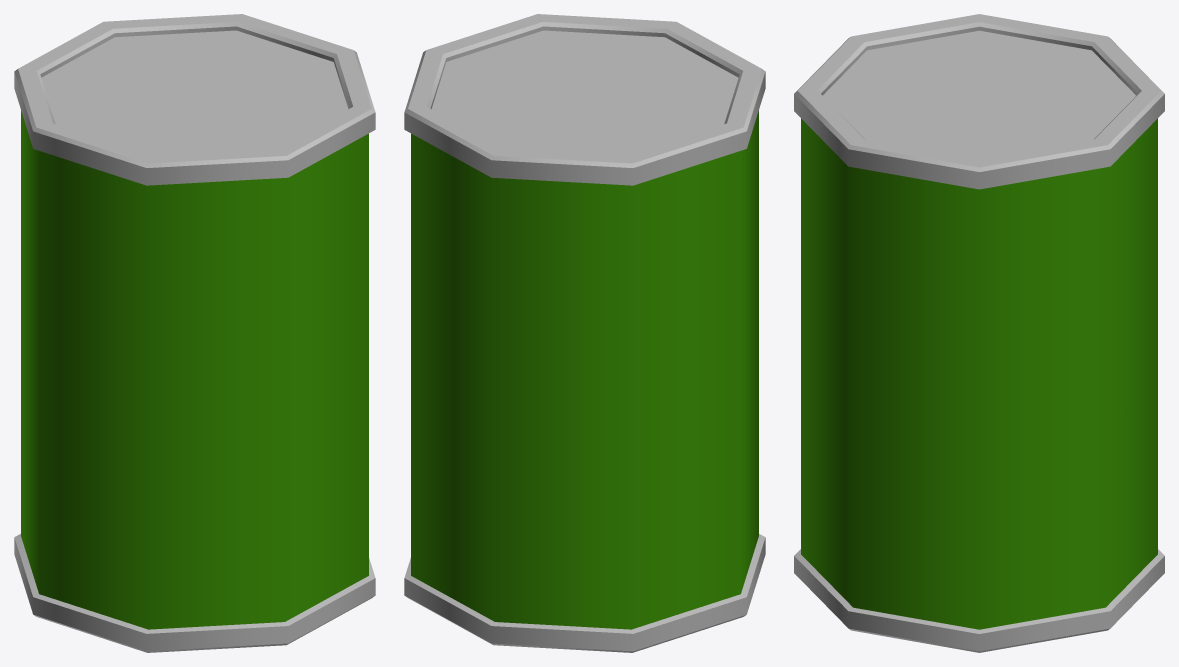
File: Fridgerer_Canned_02.glb
3 renders of one model, left to right at view 1: azimuth 30°, elevation 25°; view 2: azimuth 150°, elevation 25°; view 3: azimuth 270°, elevation 25°, orthographic.
Visible parts, largest first — view 1: Canned1; view 2: Canned1; view 3: Canned1.
Boxes of the visible parts, x1,y1,x2,y2 form: Canned1: (14, 14, 375, 652); Canned1: (404, 14, 765, 652); Canned1: (794, 14, 1164, 652).
Size of the model in its own units: 0.1036 by 0.1497 by 0.1036.
